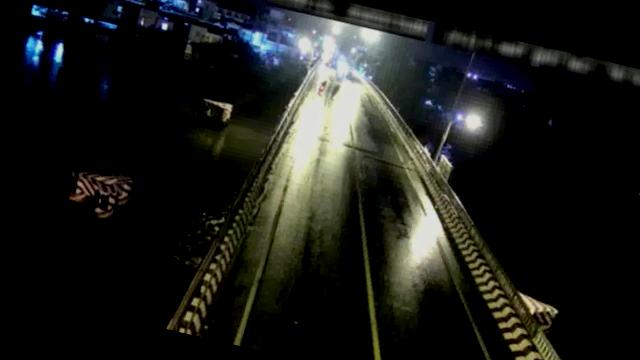Bike: (316, 78, 329, 98), (328, 82, 341, 100)
